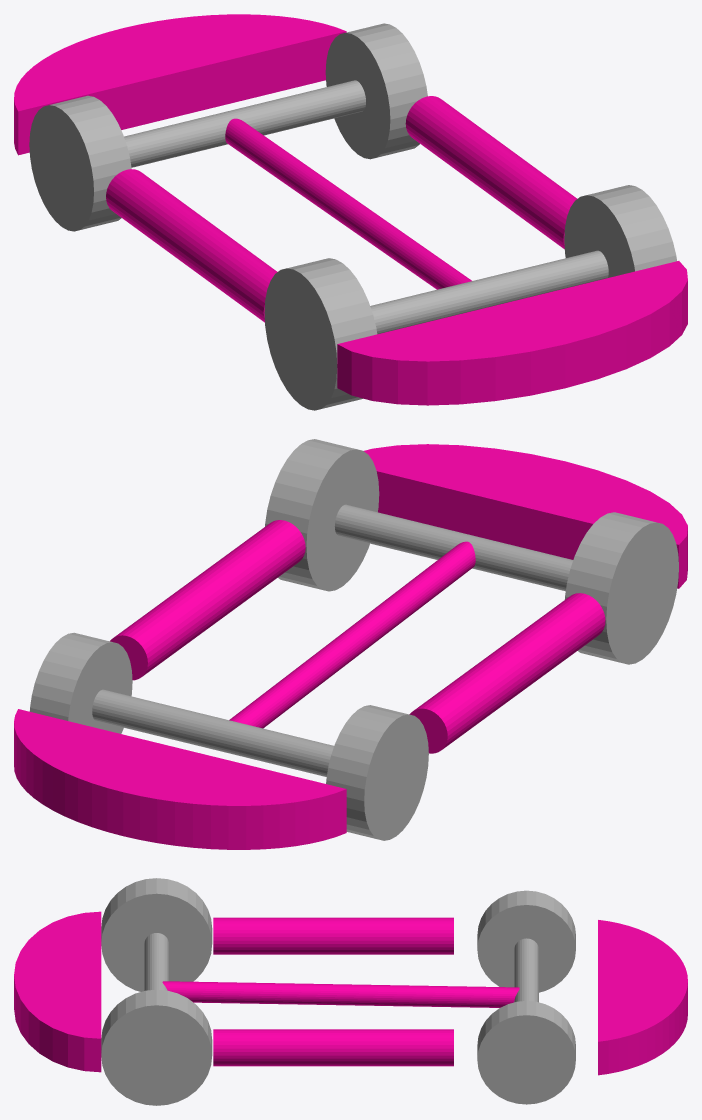
The model's file is purple_car.fbx.
3 renders of one model, top to bottom at view 1: azimuth 30°, elevation 25°; view 2: azimuth 150°, elevation 25°; view 3: azimuth 270°, elevation 25°, orthographic. The views are drawn at different scales.
Parts seen in each view (by area): view 1: estrutura_a_volta, rodas frente, rodas tras, eixo meio; view 2: estrutura_a_volta, rodas tras, rodas frente, eixo meio; view 3: estrutura_a_volta, rodas tras, rodas frente, eixo meio.
Part boxes in pixels (x1=…): estrutura_a_volta: x1=14, y1=14, x2=687, y2=405; rodas frente: x1=29, y1=23, x2=427, y2=231; rodas tras: x1=264, y1=185, x2=676, y2=410; eixo meio: x1=225, y1=118, x2=471, y2=289; estrutura_a_volta: x1=14, y1=444, x2=687, y2=849; rodas tras: x1=265, y1=439, x2=678, y2=664; rodas frente: x1=29, y1=632, x2=428, y2=840; eixo meio: x1=229, y1=541, x2=475, y2=728; estrutura_a_volta: x1=14, y1=911, x2=687, y2=1075; rodas tras: x1=101, y1=878, x2=212, y2=1105; rodas frente: x1=477, y1=890, x2=575, y2=1104; eixo meio: x1=162, y1=981, x2=519, y2=1007.
Size of the model in its own units: 488 by 180 by 1093.
